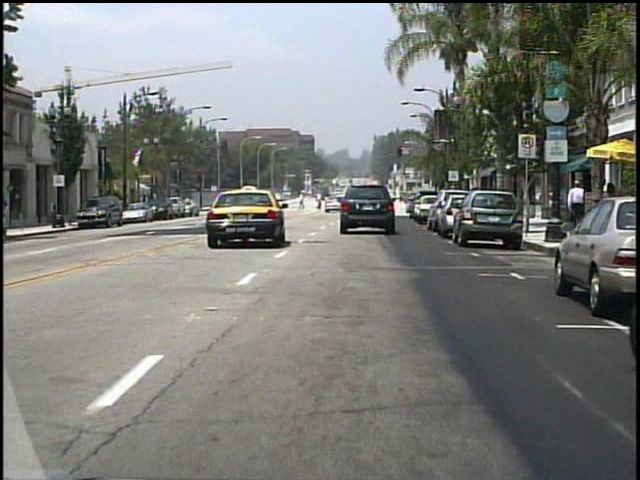person: (564, 179, 586, 230), (296, 192, 307, 212), (313, 193, 324, 212)
